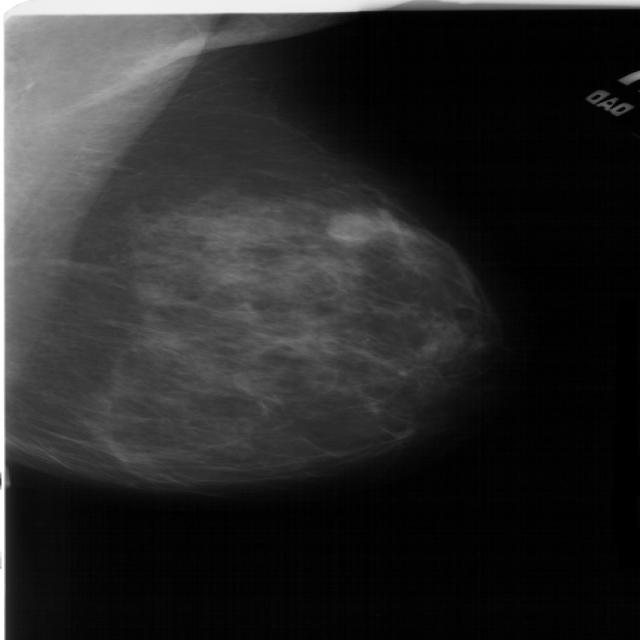tumour: (322, 210, 376, 243)
